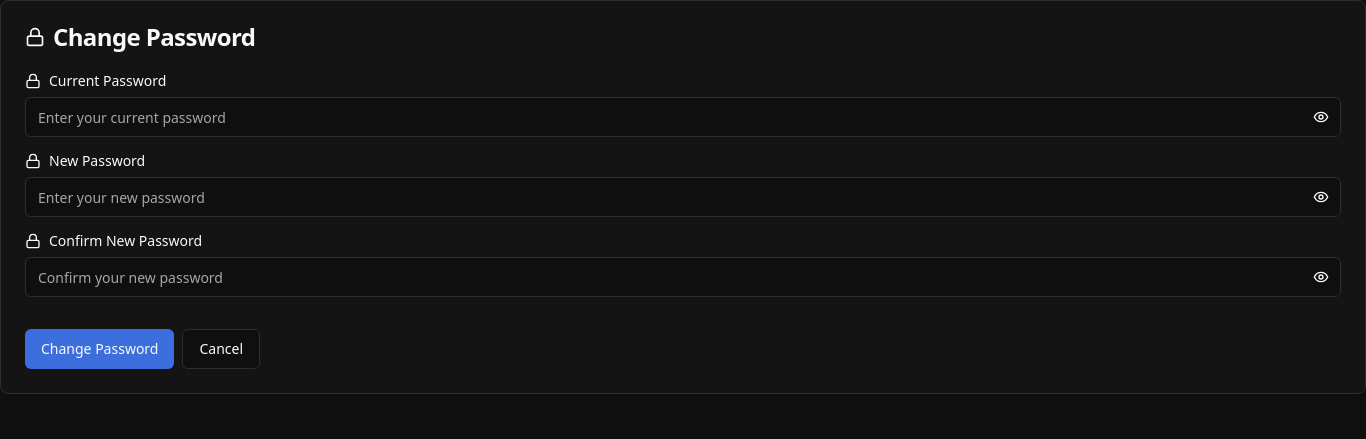
Test case: PasswordChangeForm › should validate password confirmation match
This screenshot has width=1366, height=439.
Type "currentpass" into the password field labelled "Current Password" at [683, 117], box top-left (25, 97), bottom-right (1341, 137)
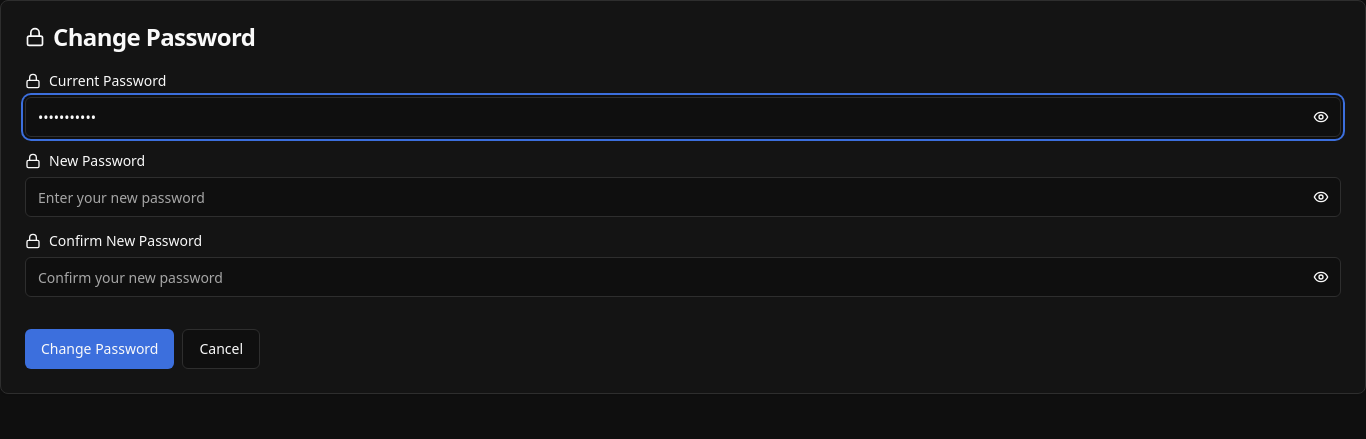
Type "Newpassword123!" into the password field labelled "New Password" at [683, 197], box top-left (25, 177), bottom-right (1341, 217)
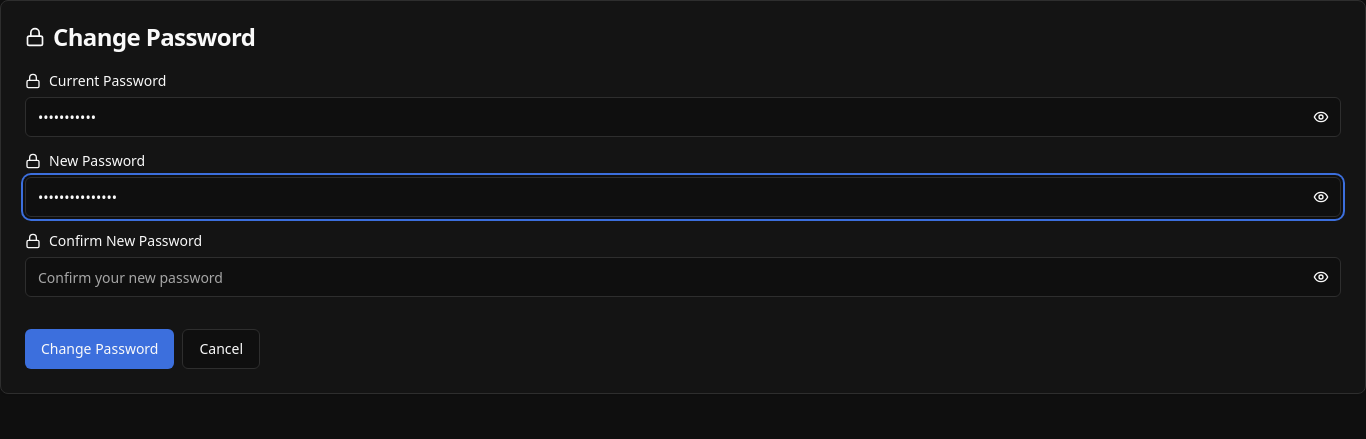
Type "Different123!" into the password field labelled "Confirm New Password" at [683, 277], box top-left (25, 257), bottom-right (1341, 297)
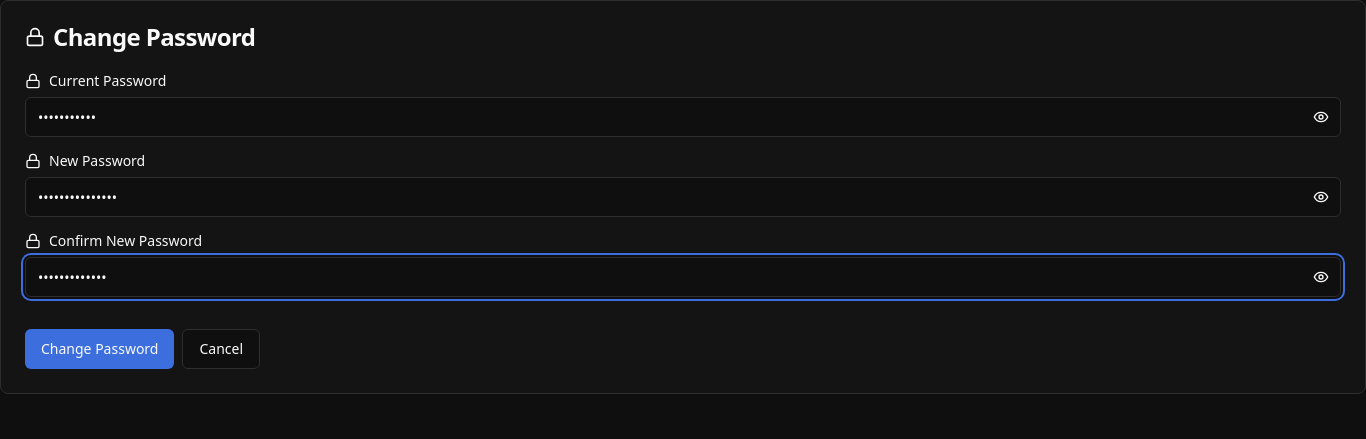
Click the button "Change Password" at [100, 349], box top-left (25, 329), bottom-right (174, 369)
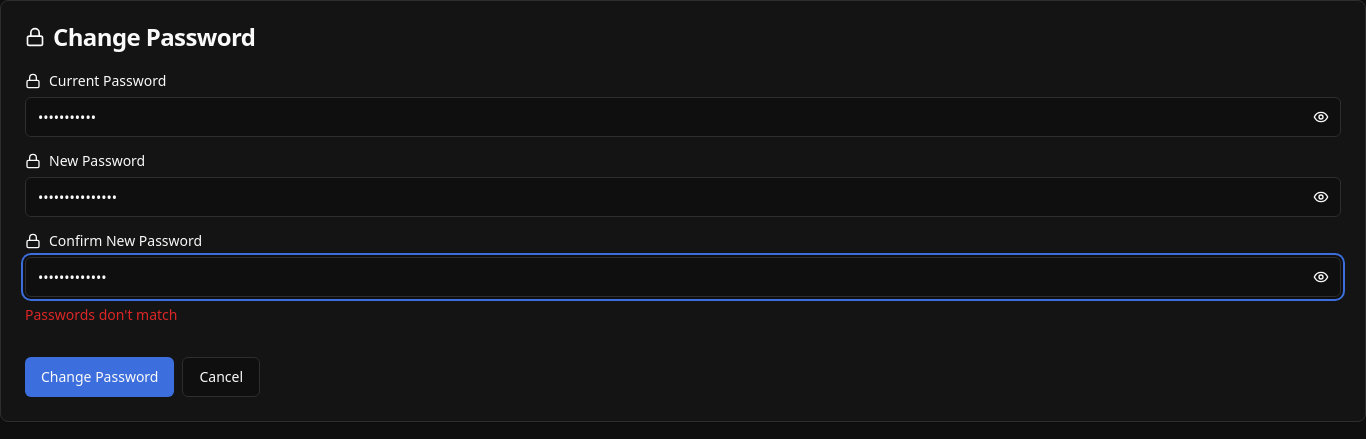
Check: the text "Passwords don't match" is shown, box top-left (25, 305), bottom-right (178, 324)
